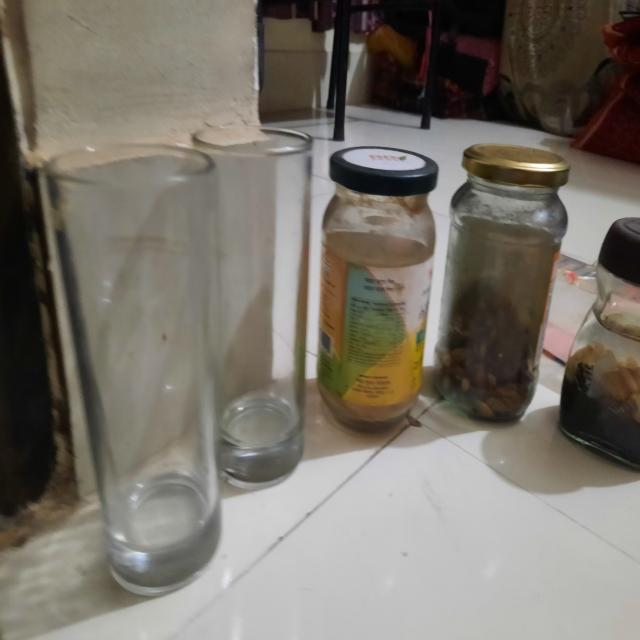Glass: (40, 116, 325, 570), (339, 207, 640, 557)
can: (338, 142, 580, 195)
